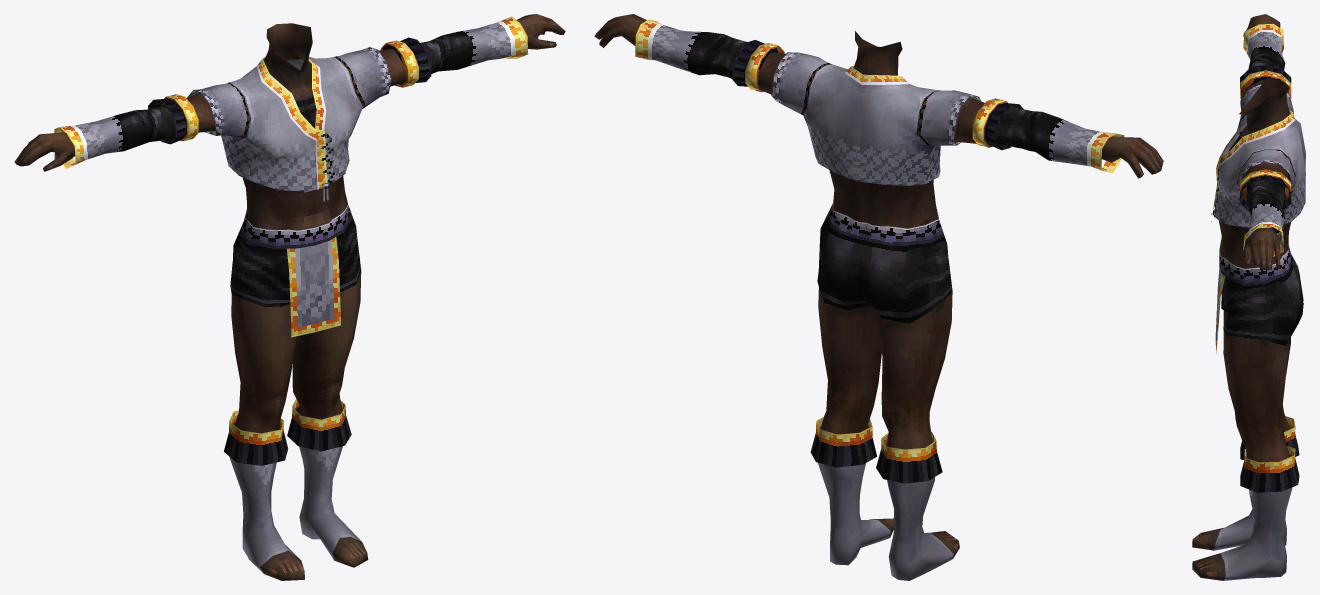
Rendered from m_body017.obj.
3 views of the same model, side by side, from view 1: azimuth 30°, elevation 25°; view 2: azimuth 150°, elevation 25°; view 3: azimuth 270°, elevation 25° (orthographic). The views are drawn at different scales.
Parts seen in each view (by area): view 1: editpl_m-0000-77, editpl_m-0000-76, editpl_m-0000-75; view 2: editpl_m-0000-77, editpl_m-0000-76, editpl_m-0000-75; view 3: editpl_m-0000-77, editpl_m-0000-76, editpl_m-0000-75.
Part boxes in pixels (x1,y1,x2,y2): editpl_m-0000-77: [224, 204, 368, 580]; editpl_m-0000-76: [186, 23, 405, 230]; editpl_m-0000-75: [14, 14, 565, 171]; editpl_m-0000-77: [810, 203, 959, 580]; editpl_m-0000-76: [757, 31, 984, 228]; editpl_m-0000-75: [594, 14, 1163, 178]; editpl_m-0000-77: [1192, 245, 1303, 580]; editpl_m-0000-76: [1211, 77, 1305, 268]; editpl_m-0000-75: [1240, 14, 1291, 269].
Size of the model in its own units: 178 by 159 by 34.72.
3 materials, 3 textured.
